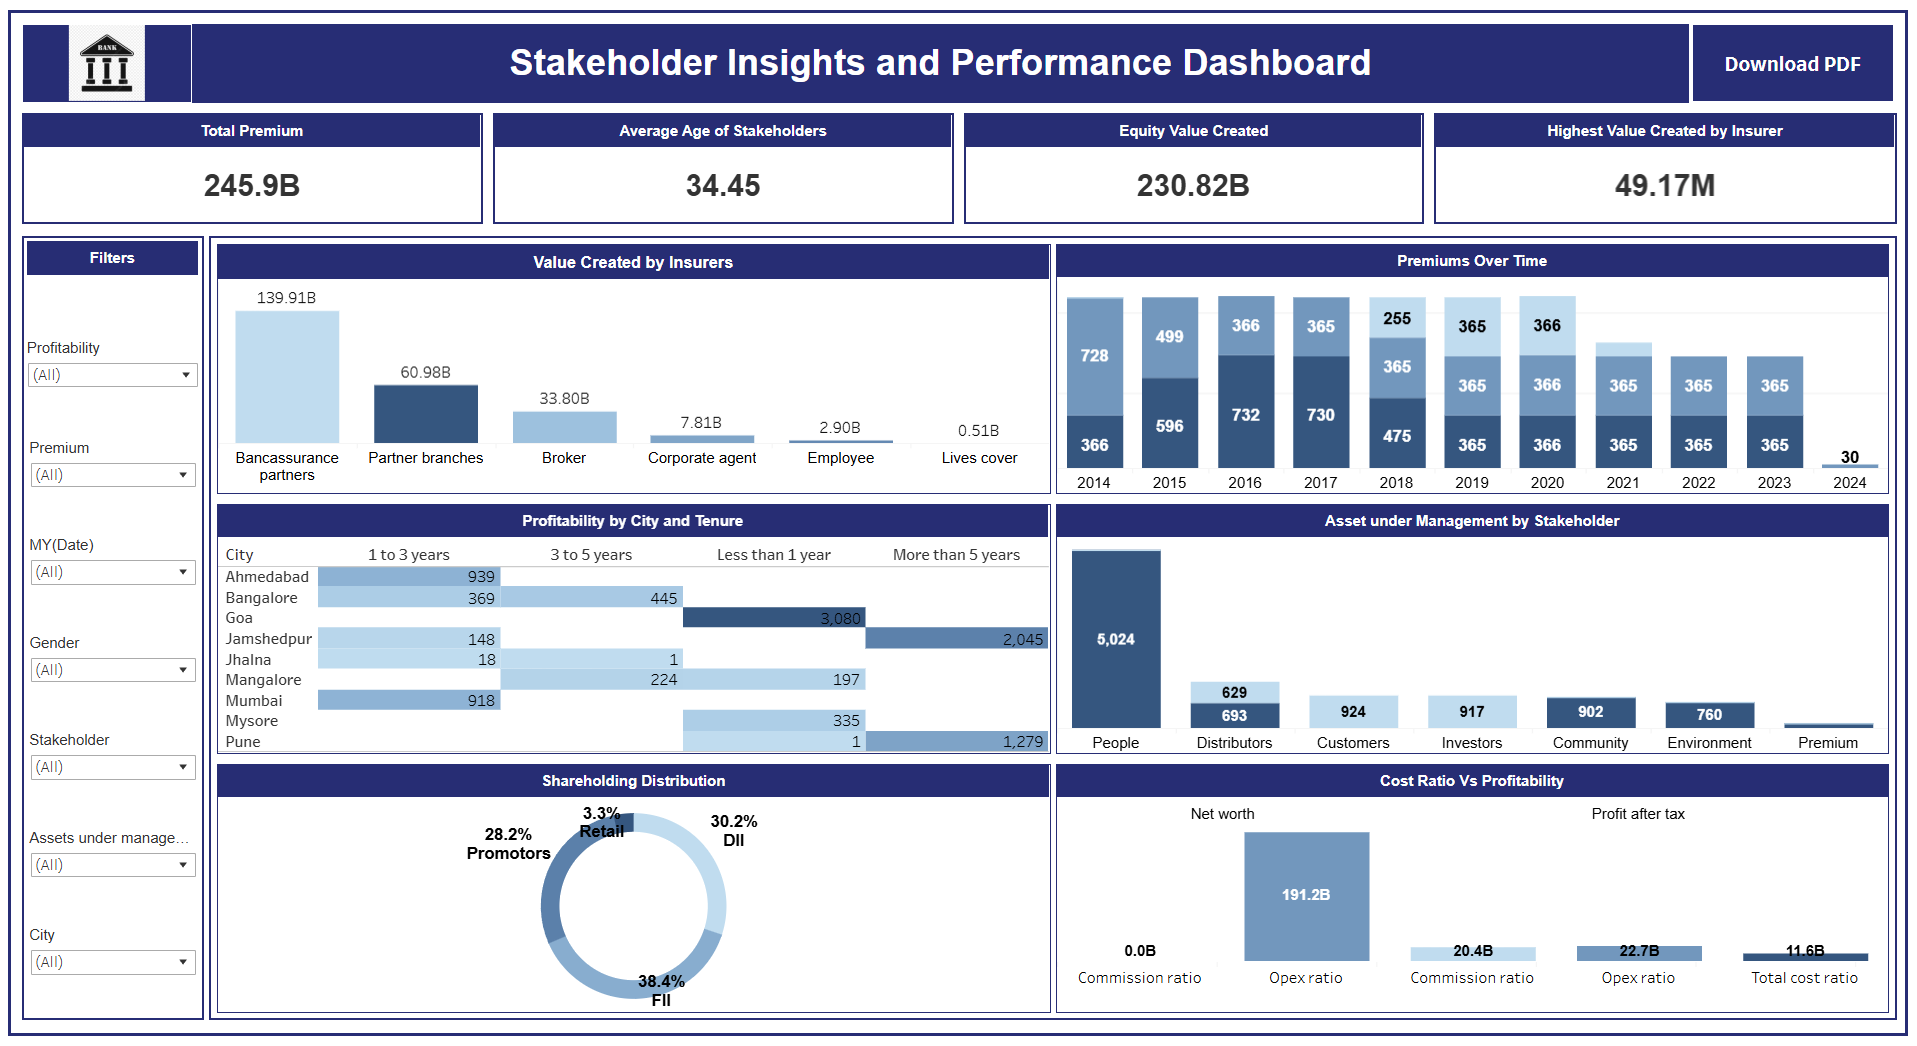

The page's visual inventory and layout, read from the dashboard file:
{"tool":"tableau","page":{"name":"Stakeholder Insights and Performance Dashboard","canvas":[1000,1000],"units":"permille","ordinal":0},"visuals":[{"type":"image","param":"D:/2025_KIRAN/Tableau Project/Banking_tableau_project/pngtree-vector-bank-icon-p","box":[11.5,23.7,82.1,78.7]},{"type":"text","box":[93.5,23.7,796,78.7]},{"type":"dashboard-object","box":[889.6,23.7,99,78.7]},{"type":"worksheet","title":"Total Premium","mark":"Automatic","box":[9.1,107.4,245.6,121.1]},{"type":"worksheet","title":"Average Age of Stakeholders","mark":"Automatic","box":[254.7,107.4,245.6,121.1]},{"type":"worksheet","title":"Equity Value Created","mark":"Automatic","box":[500.3,107.4,245.6,121.1]},{"type":"worksheet","title":"Highest Value Created by Insurer","mark":"Automatic","box":[745.9,107.4,245,121.1]},{"type":"worksheet","title":"Filters","mark":"Automatic","box":[12.7,238.5,85.7,92.4]},{"type":"worksheet","title":"Value Created by Insurers","mark":"Automatic","rows":["Value Created"],"cols":["Insurer"],"box":[104.4,241,441.8,239.7]},{"type":"worksheet","title":"Premiums Over Time","mark":"Bar","rows":["Premium 1"],"cols":["Date"],"box":[546.2,241,441.2,239.7]},{"type":"filter","title":"Filters","param":"[federated.1l992290slv2gn1d2suqe1gyukez].[none:Profitability:nk]","box":[12.7,330.8,85.7,92.4]},{"type":"filter","title":"Filters","param":"[federated.1l992290slv2gn1d2suqe1gyukez].[none:Premium 1:nk]","box":[12.7,423.2,85.7,92.4]},{"type":"worksheet","title":"Profitability by City and Tenure","mark":"Square","rows":["City"],"cols":["Policy tenure"],"box":[104.4,485.6,441.8,239.7]},{"type":"worksheet","title":"Asset under Management by Stakeholder","mark":"Automatic","rows":["Assets under management"],"cols":["Stakeholder"],"box":[546.2,485.6,441.2,239.7]},{"type":"filter","title":"Filters","param":"[federated.1l992290slv2gn1d2suqe1gyukez].[my:Date:ok]","box":[12.7,515.6,85.7,91.1]},{"type":"filter","title":"Filters","param":"[federated.1l992290slv2gn1d2suqe1gyukez].[none:Gender:nk]","box":[12.7,606.7,85.7,91.1]},{"type":"filter","title":"Filters","param":"[federated.1l992290slv2gn1d2suqe1gyukez].[none:Stakeholder:nk]","box":[12.7,697.9,85.7,91.1]},{"type":"worksheet","title":"Shareholding Distribution","mark":"Pie","rows":["Calculation_1073545596979298304","Calculation_1073545596979298304"],"box":[104.4,730.3,441.8,238.5]},{"type":"worksheet","title":"Cost Ratio Vs Profitability","mark":"Automatic","rows":["Value Created"],"cols":["Profitability","Cost ratio"],"box":[546.2,730.3,441.2,238.5]},{"type":"filter","title":"Filters","param":"[federated.1l992290slv2gn1d2suqe1gyukez].[none:Assets under management:nk]","box":[12.7,789,85.7,91.1]},{"type":"filter","title":"Filters","param":"[federated.1l992290slv2gn1d2suqe1gyukez].[none:City:nk]","box":[12.7,880.1,85.7,91.1]}]}

Visuals, with their boxes on the dashboard's canvas, which has no fixed pixel size, in thousandths of its width and height (x1, y1, x2, y2). These are canvas units, not pixel positions in the 1917x1046 screenshot, which may show the page scaled, cropped or inside an application window:
image: box(12, 24, 94, 102)
text: box(94, 24, 890, 102)
dashboard-object: box(890, 24, 989, 102)
"Total Premium" worksheet: box(9, 107, 255, 228)
"Average Age of Stakeholders" worksheet: box(255, 107, 500, 228)
"Equity Value Created" worksheet: box(500, 107, 746, 228)
"Highest Value Created by Insurer" worksheet: box(746, 107, 991, 228)
"Filters" worksheet: box(13, 238, 98, 331)
"Value Created by Insurers" worksheet: box(104, 241, 546, 481)
"Premiums Over Time" worksheet (Bar marks): box(546, 241, 987, 481)
"Filters" filter: box(13, 331, 98, 423)
"Filters" filter: box(13, 423, 98, 516)
"Profitability by City and Tenure" worksheet (Square marks): box(104, 486, 546, 725)
"Asset under Management by Stakeholder" worksheet: box(546, 486, 987, 725)
"Filters" filter: box(13, 516, 98, 607)
"Filters" filter: box(13, 607, 98, 698)
"Filters" filter: box(13, 698, 98, 789)
"Shareholding Distribution" worksheet (Pie marks): box(104, 730, 546, 969)
"Cost Ratio Vs Profitability" worksheet: box(546, 730, 987, 969)
"Filters" filter: box(13, 789, 98, 880)
"Filters" filter: box(13, 880, 98, 971)
